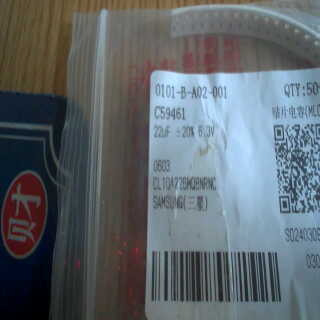22uF: (151, 124, 175, 142)
